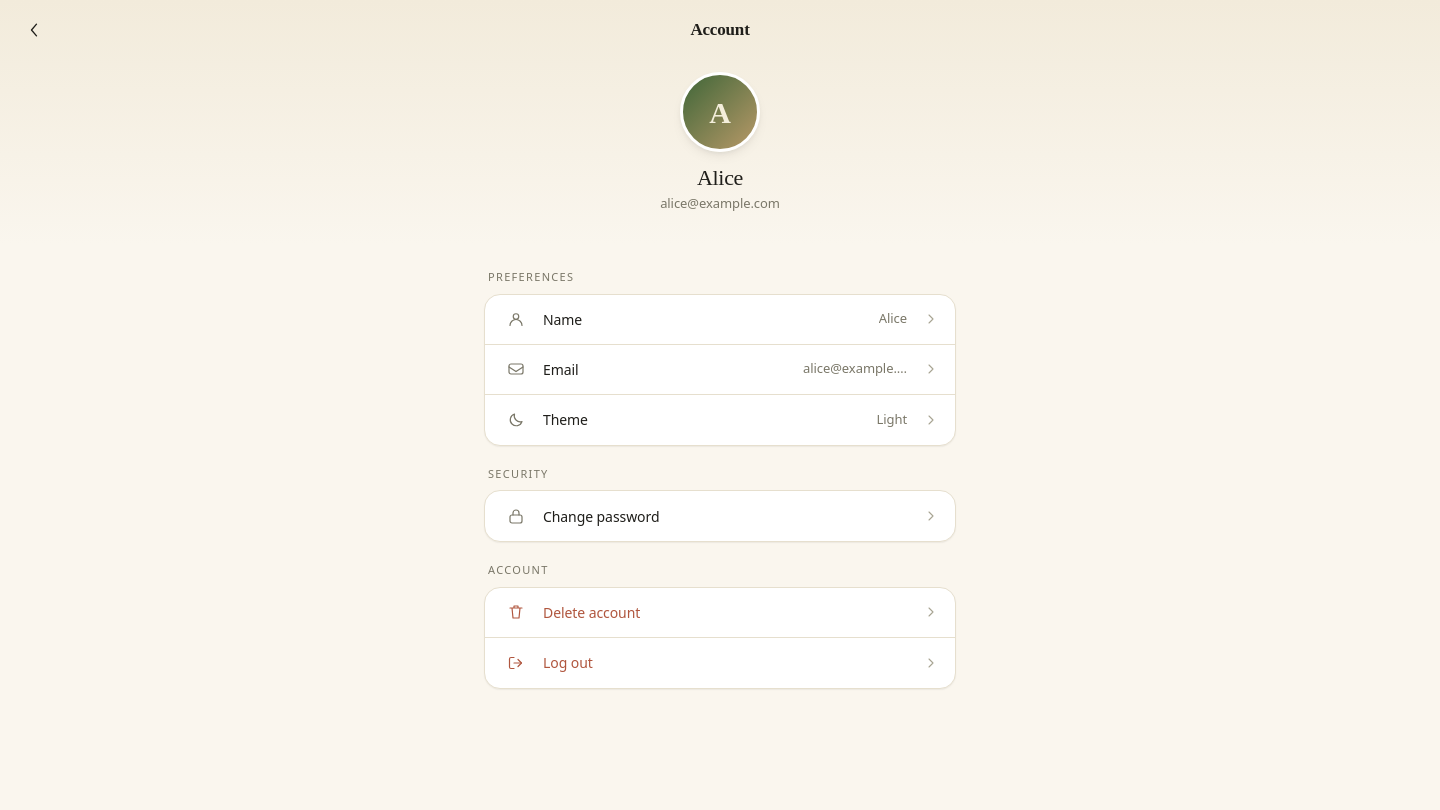
Test: AccountPage › shows error when new password is too short
Click the button "Change password". click: (601, 516)
box: [485,491,955,541]
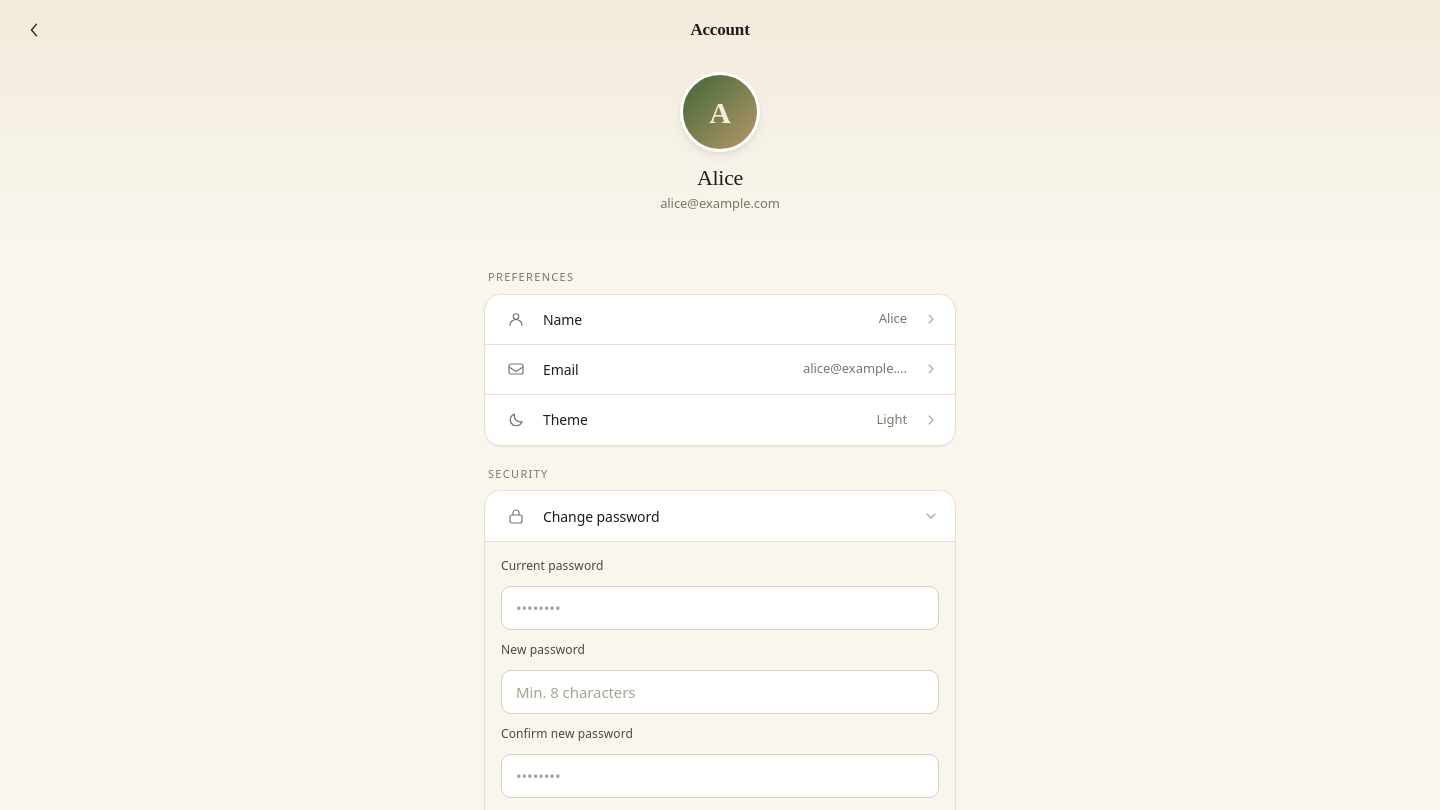
Type "old" into the password field labelled "Current password". click: (720, 608)
box: [501,586,939,630]
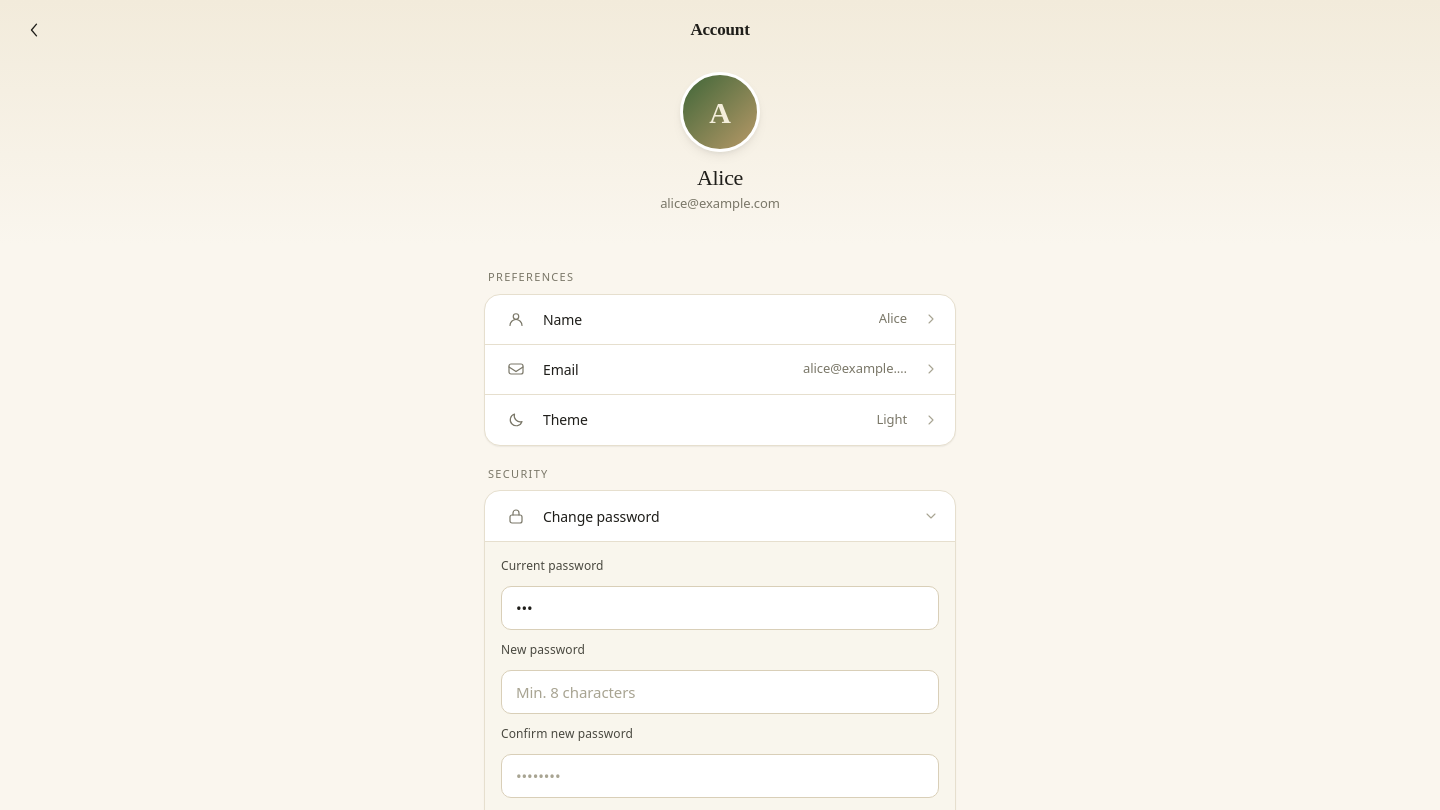
Type "short" into the password field labelled "New password". click: (720, 692)
box: [501,670,939,714]
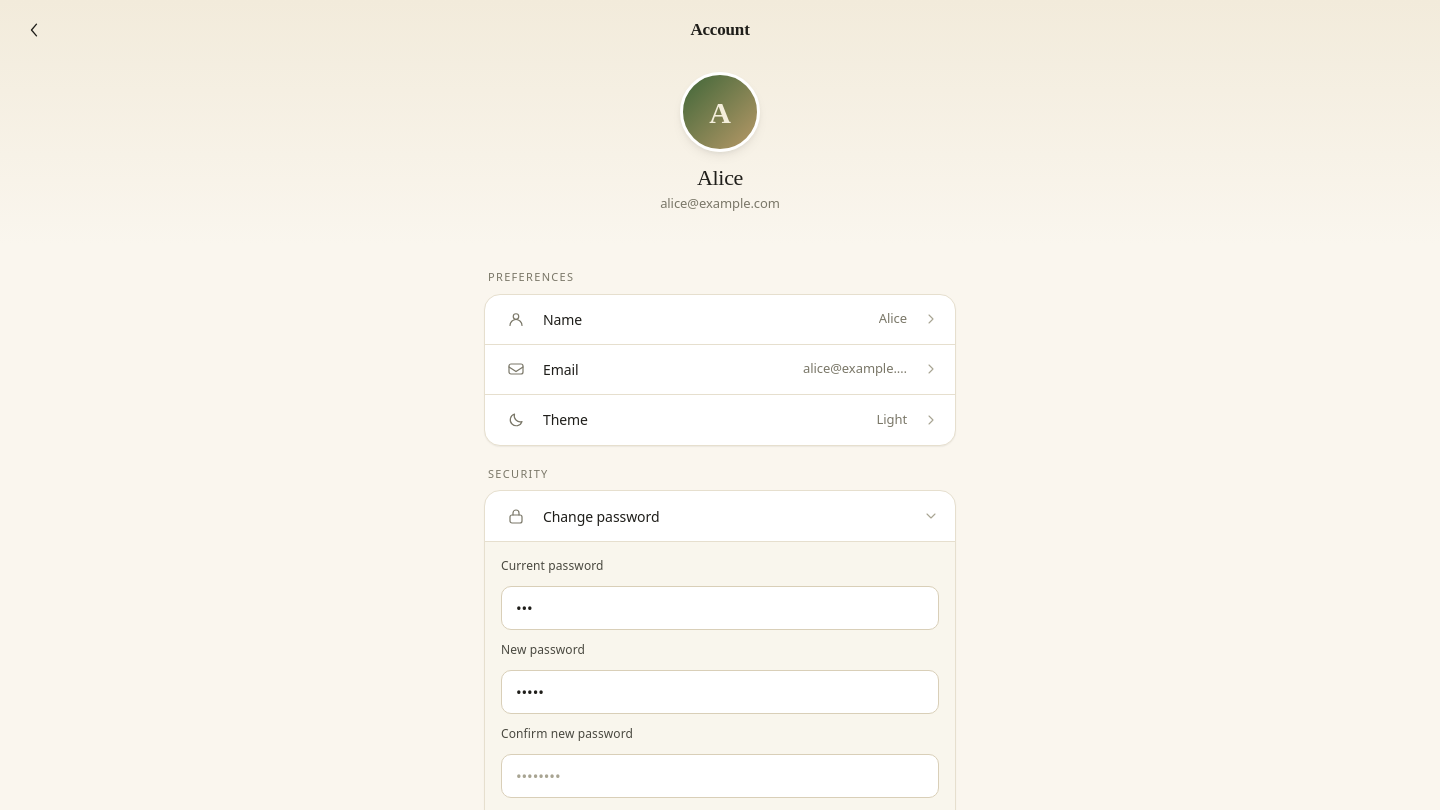
Type "short" into the password field labelled "Confirm new password". click: (720, 776)
box: [501,754,939,798]
(page scrolled)
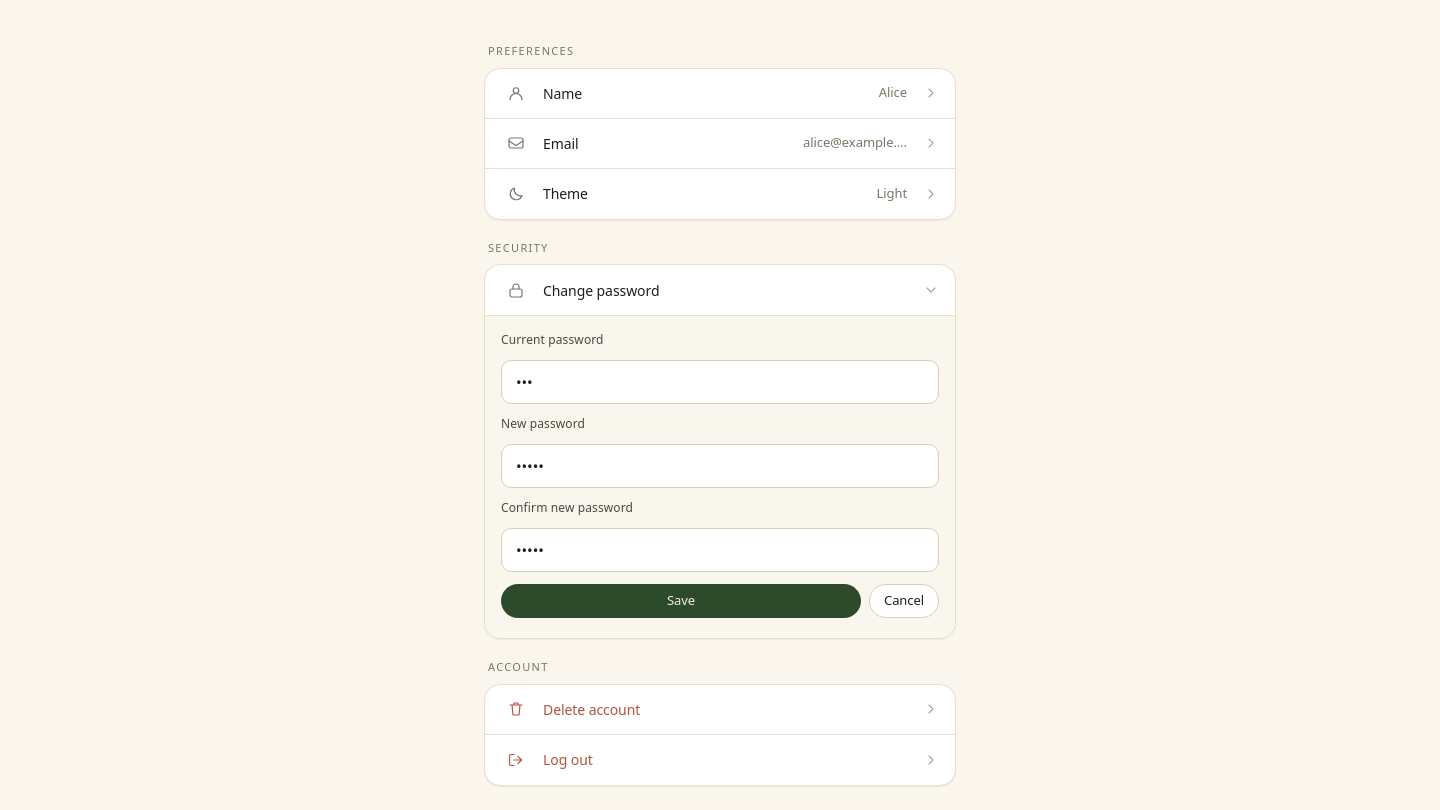
Click the button "Save". click: (681, 601)
box: [501,584,861,618]
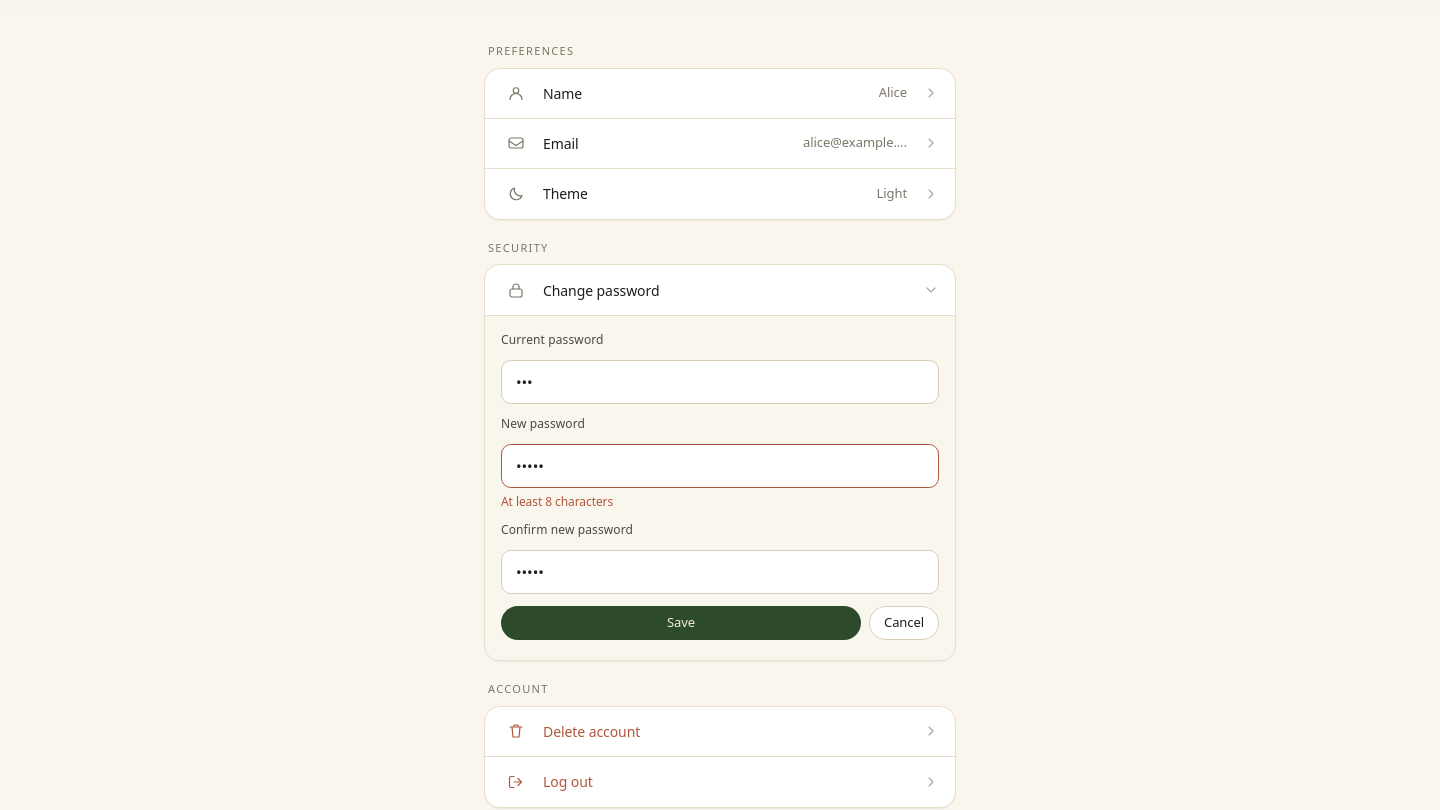
Now the text "At least 8 characters" is shown, box [501,493,613,510]
